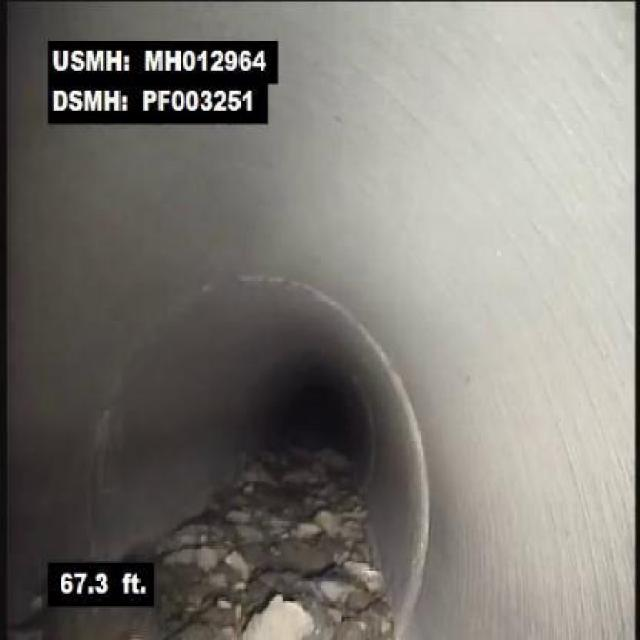Debris: (157, 425, 403, 632)
